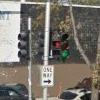Traffic light: (10, 20, 69, 61)
